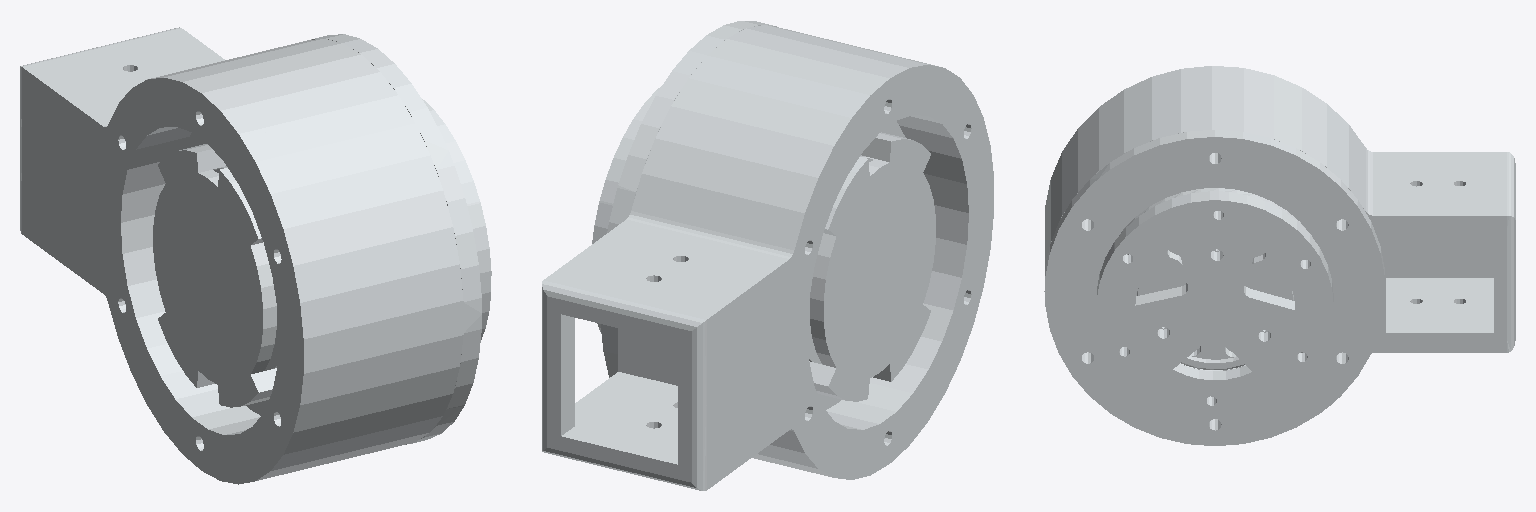
The robot description file, URDF, robot "Assem_4305_JOINT":
<?xml version="1.0" encoding="utf-8"?>
<!-- This URDF was automatically created by SolidWorks to URDF Exporter! Originally created by [author] ([email redacted])
     Commit Version: 1.6.0-4-g7f85cfe  Build Version: 1.6.7995.38578
     For more information, please see http://wiki.ros.org/sw_urdf_exporter -->
<robot
  name="Assem_4305_JOINT">
  <link
    name="motor4305_link">
    <inertial>
      <origin
        xyz="0.0042941 1.4489E-06 0.034665"
        rpy="0 0 0" />
      <mass
        value="0.48076" />
      <inertia
        ixx="0.0004787"
        ixy="5.7034E-09"
        ixz="-5.2375E-06"
        iyy="0.000333"
        iyz="1.5111E-08"
        izz="0.00023888" />
    </inertial>
    <visual>
      <origin
        xyz="0 0 0"
        rpy="0 0 0" />
      <geometry>
        <mesh
          filename="../meshes/motor4305_link.STL" />
      </geometry>
      <material
        name="">
        <color
          rgba="0.89804 0.91765 0.92941 1" />
      </material>
    </visual>
    <collision>
      <origin
        xyz="0 0 0"
        rpy="0 0 0" />
      <geometry>
        <mesh
          filename="../meshes/motor4305_link.STL" />
      </geometry>
    </collision>
  </link>
  <link
    name="motor4305_out_link">
    <inertial>
      <origin
        xyz="-1.3533E-08 -0.0025 -3.5182E-09"
        rpy="0 0 0" />
      <mass
        value="0.026746" />
      <inertia
        ixx="5.4686E-06"
        ixy="4.832E-22"
        ixz="-3.7058E-22"
        iyy="1.0826E-05"
        iyz="-3.2034E-22"
        izz="5.4686E-06" />
    </inertial>
    <visual>
      <origin
        xyz="0 0 0"
        rpy="0 0 0" />
      <geometry>
        <mesh
          filename="../meshes/motor4305_out_link.STL" />
      </geometry>
      <material
        name="">
        <color
          rgba="0.89804 0.91765 0.92941 1" />
      </material>
    </visual>
    <collision>
      <origin
        xyz="0 0 0"
        rpy="0 0 0" />
      <geometry>
        <mesh
          filename="../meshes/motor4305_out_link.STL" />
      </geometry>
    </collision>
  </link>
  <joint
    name="motor4305_rev_joint"
    type="revolute">
    <origin
      xyz="0.0255 -0.0395 0"
      rpy="0 0.032992 1.5708" />
    <parent
      link="motor4305_link" />
    <child
      link="motor4305_out_link" />
    <axis
      xyz="0 0 1" />
    <limit
      lower="0"
      upper="0"
      effort="0"
      velocity="0" />
  </joint>
</robot>

--- Render facts (derived) ---
Views: 3 orthographic renders of the robot side by side, from view 1: azimuth 30°, elevation 25°; view 2: azimuth 150°, elevation 25°; view 3: azimuth 270°, elevation 25°.
Model Assem_4305_JOINT with 2 links and 1 joints (1 revolute), rooted at motor4305_link, posed every joint at zero.
Links seen in each view (by area): view 1: motor4305_link, motor4305_out_link; view 2: motor4305_link, motor4305_out_link; view 3: motor4305_link, motor4305_out_link.
Link boxes in pixels (x1,y1,x2,y2): motor4305_link: [20, 27, 481, 484]; motor4305_out_link: [422, 99, 491, 339]; motor4305_link: [542, 21, 993, 490]; motor4305_out_link: [592, 86, 661, 333]; motor4305_link: [1044, 66, 1515, 445]; motor4305_out_link: [1097, 191, 1333, 415].
Bounding box of the posed robot: 0.048 × 0.109 × 0.079 m (x, y, z).
2 mesh visuals loaded from 2 distinct referenced files (2 binary STL).